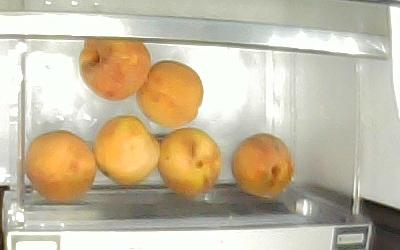peach: (90, 113, 161, 185), (24, 129, 96, 199), (77, 38, 152, 100), (135, 59, 204, 126), (155, 127, 220, 195), (229, 132, 293, 195)
